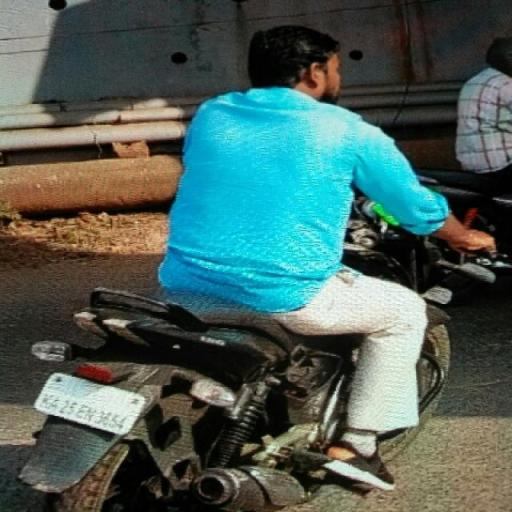bike: (14, 21, 491, 512)
withouthelmet: (252, 28, 338, 90)
